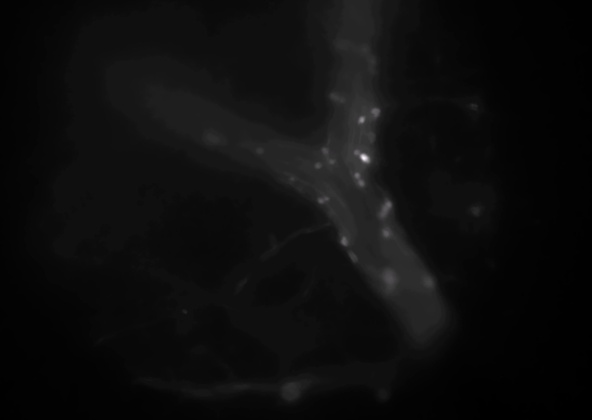cell: (357, 150, 371, 164), (354, 113, 368, 127), (369, 104, 383, 118), (349, 145, 363, 159), (362, 153, 376, 167), (316, 143, 330, 157), (311, 157, 325, 171), (324, 153, 338, 167), (326, 88, 340, 102), (350, 169, 364, 183), (335, 92, 349, 106), (354, 177, 368, 191), (337, 234, 351, 248), (382, 272, 396, 286), (380, 227, 394, 241), (382, 196, 396, 210), (378, 206, 392, 220), (378, 203, 392, 217), (313, 194, 327, 208), (320, 191, 334, 205), (284, 172, 298, 186), (253, 143, 267, 157), (207, 134, 221, 148), (423, 274, 437, 288), (357, 42, 371, 56), (367, 53, 381, 67), (331, 40, 345, 54), (366, 129, 380, 143)
